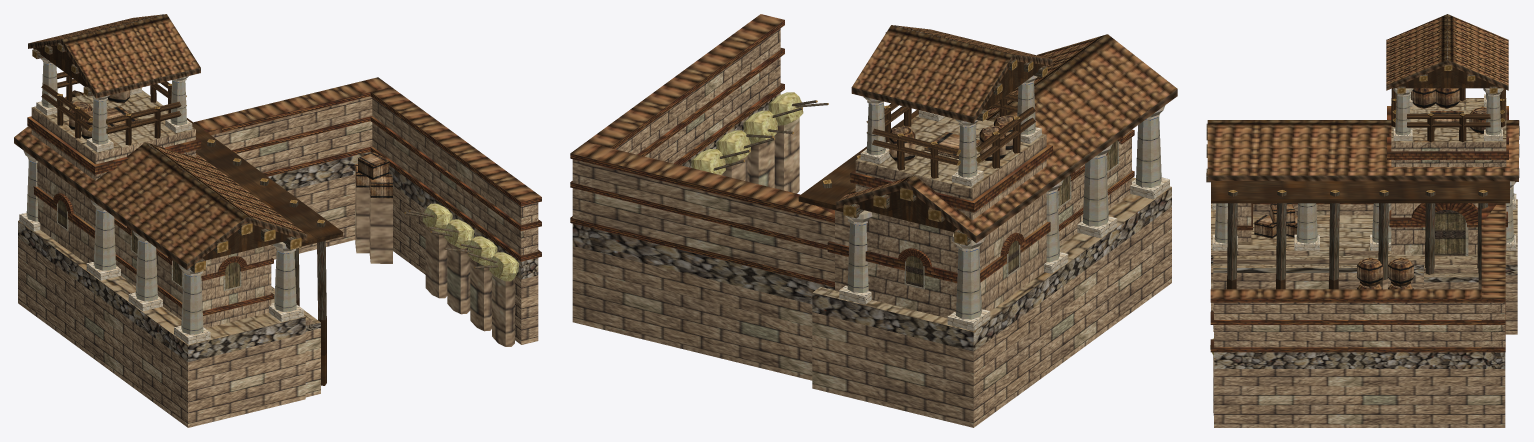
File: range.dae
The picture shows the model from 3 angles, left to right: view 1: azimuth 30°, elevation 25°; view 2: azimuth 150°, elevation 25°; view 3: azimuth 270°, elevation 25°; orthographic projection. The views are drawn at different scales.
Visible parts, largest first — view 1: range; view 2: range; view 3: range.
Part boxes in pixels (bbox=[...]): range: bbox=[14, 14, 541, 427]; range: bbox=[570, 14, 1177, 427]; range: bbox=[1206, 14, 1519, 427].
Bounding box in the file's own units: 25.84 × 21.84 × 20.18.
